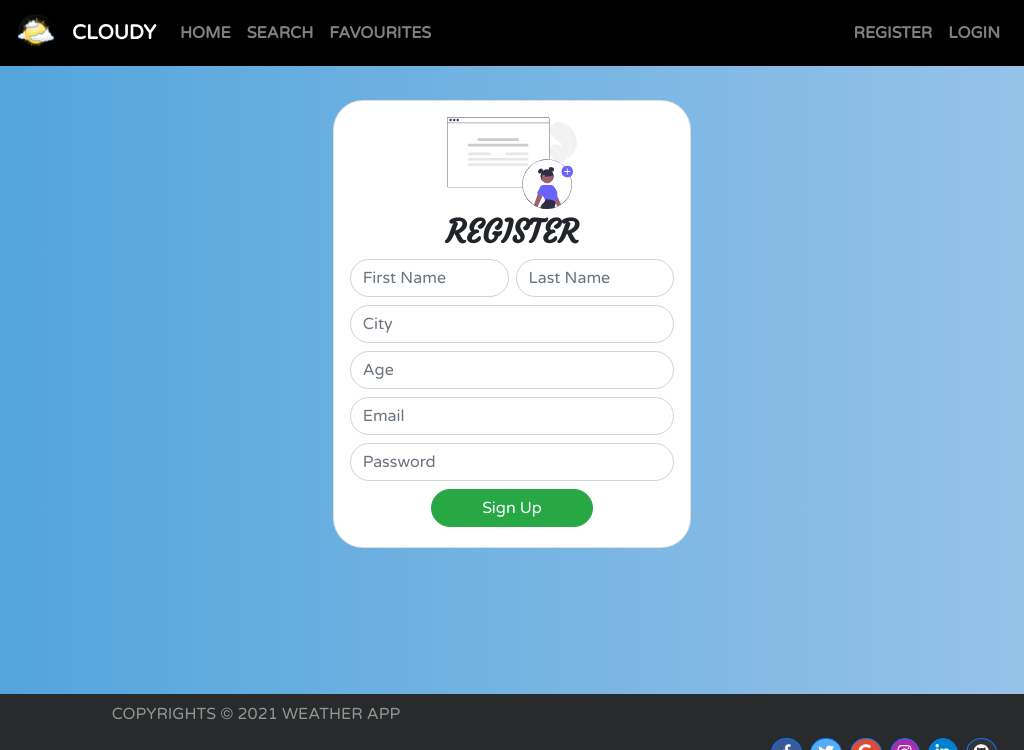
Test case: Check the working of Register › Check Empty Fields
Click the button with test id "signup-btn" at (512, 508), box [431,489,593,527]
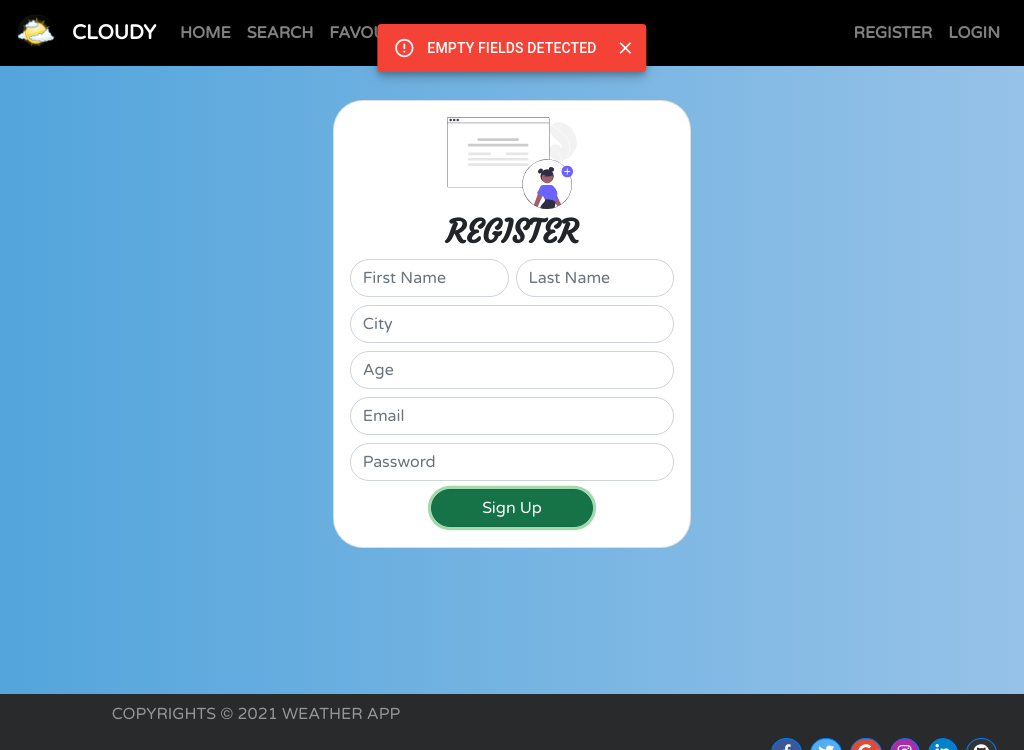
Result: the text "Empty Fields detected" is shown at [427,40,597,56]
